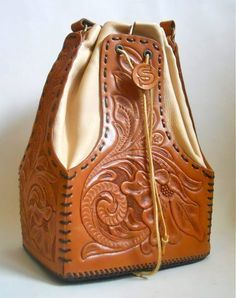cuero: (18, 18, 215, 284)
